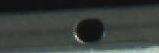holes: (72, 16, 107, 45)
